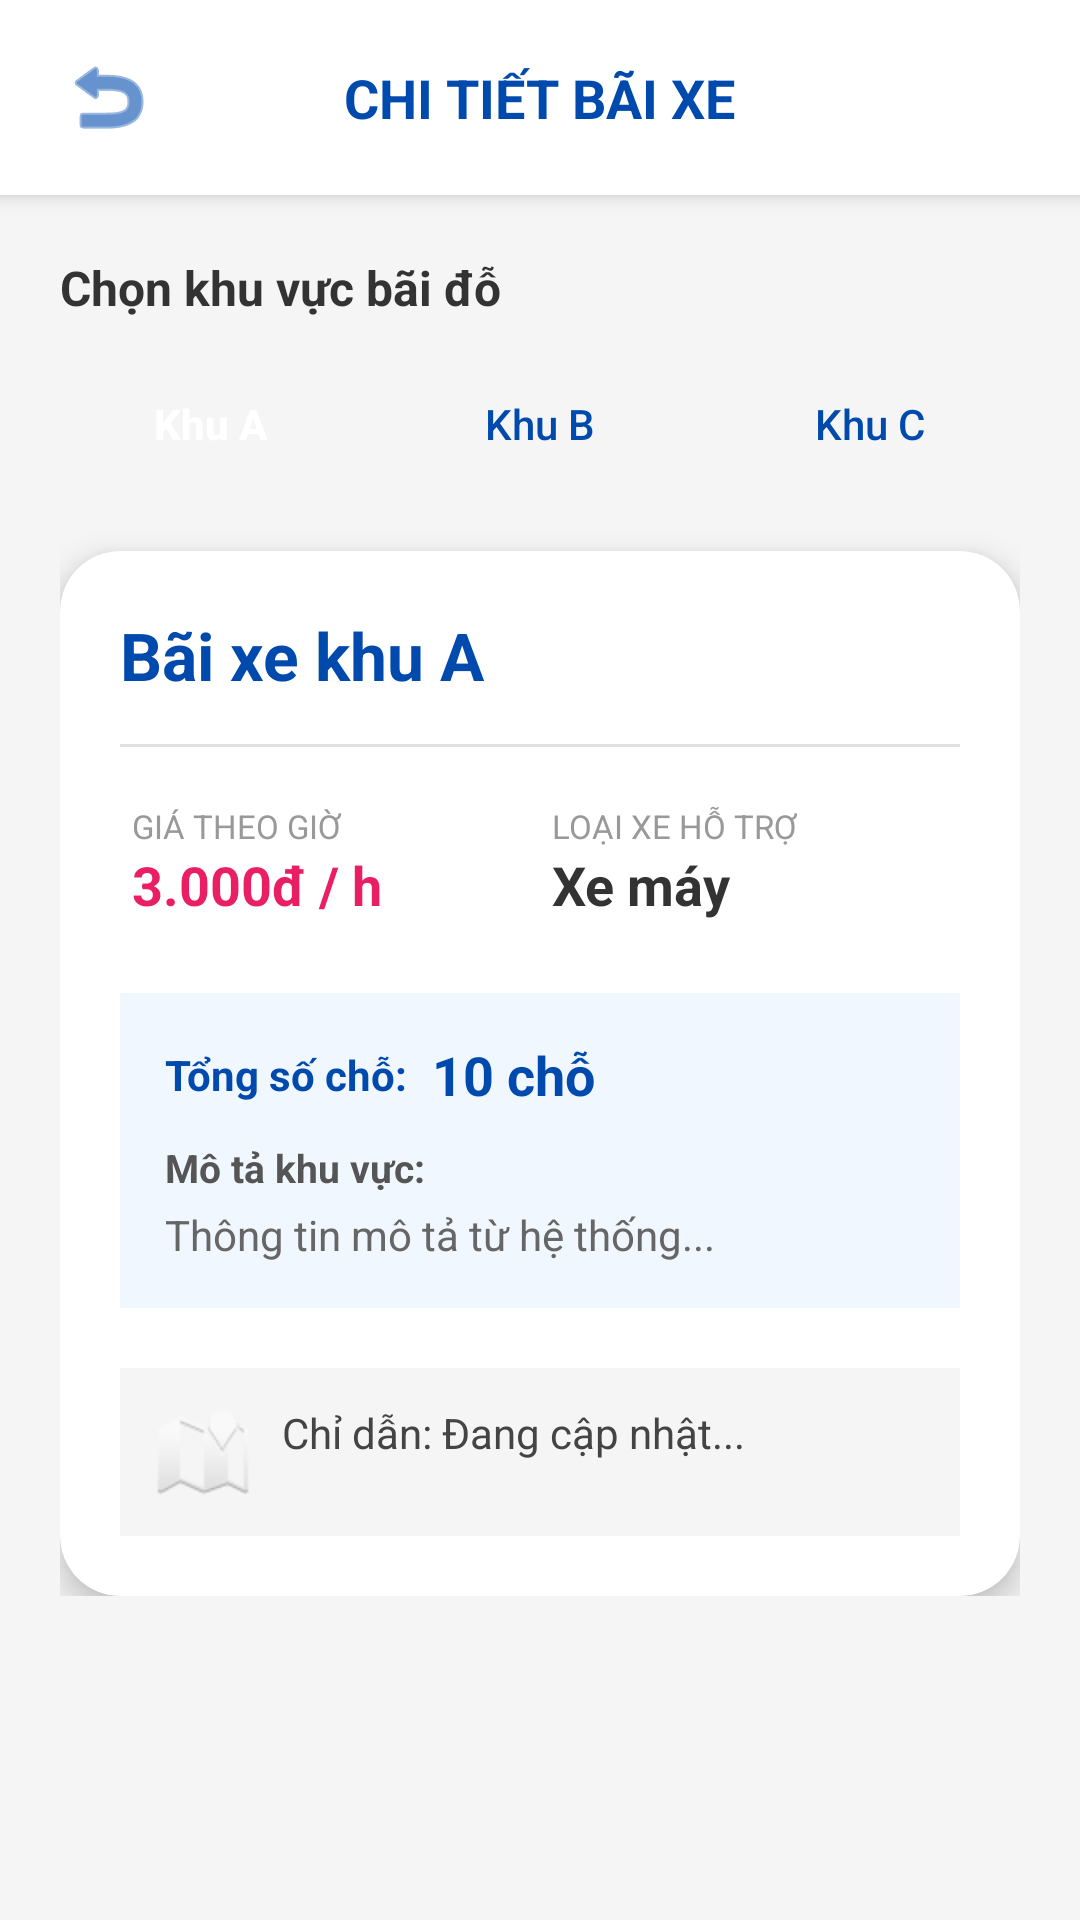

Where to tap for icons on this 1080 × 1920 app screen, as [x,y]:
revert: [109,97]
